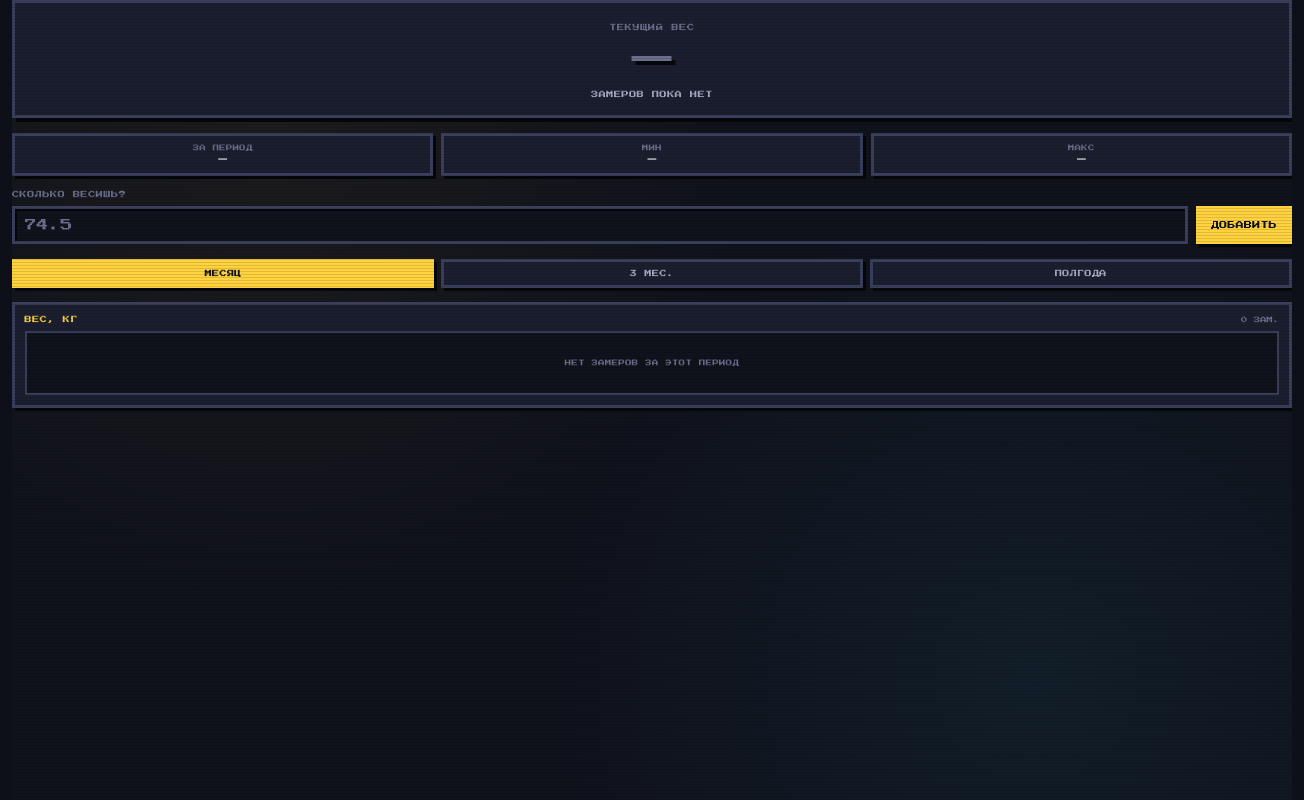
WeightPageComponent › validation › refuses a weight above the limit
In the field with class "entry-input": (600, 225) [12,206,1188,244], type "900"
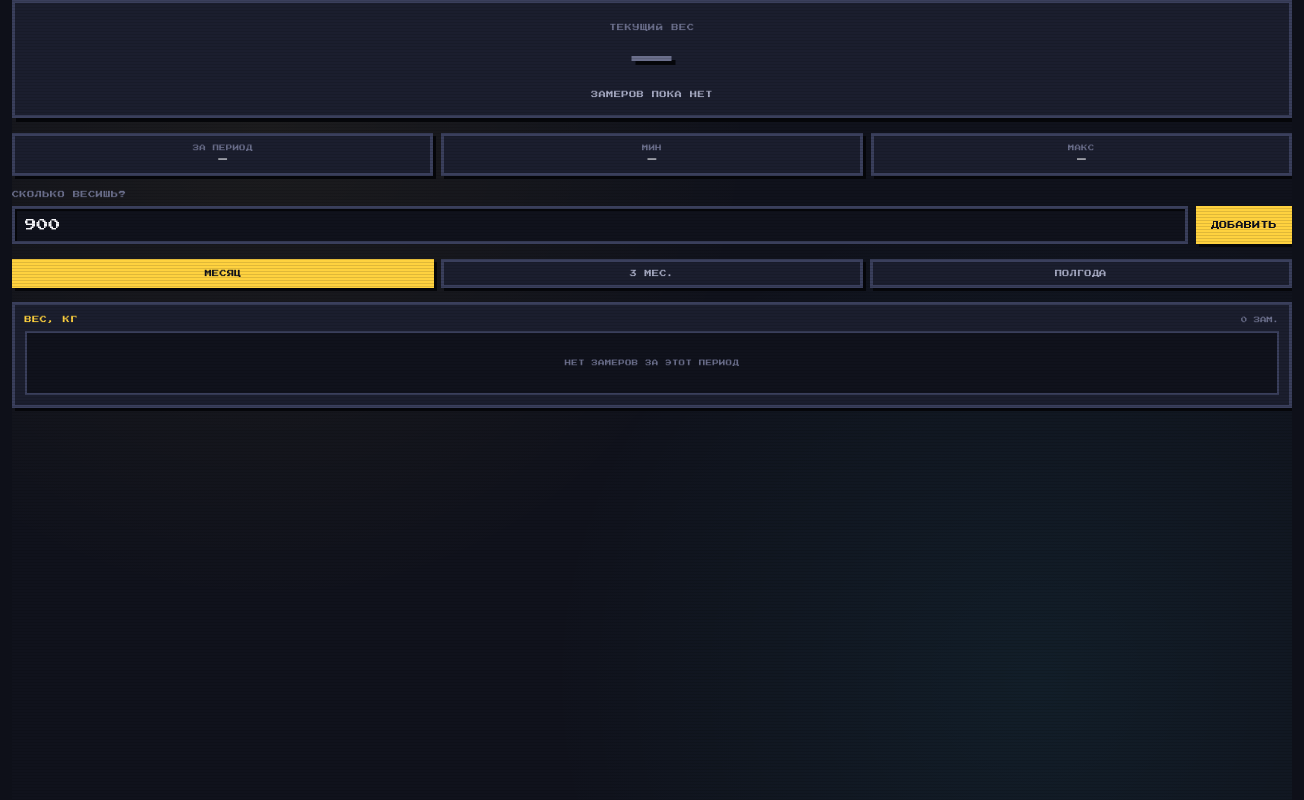
Submit the form with class "entry-form", box [12,191,1292,244]
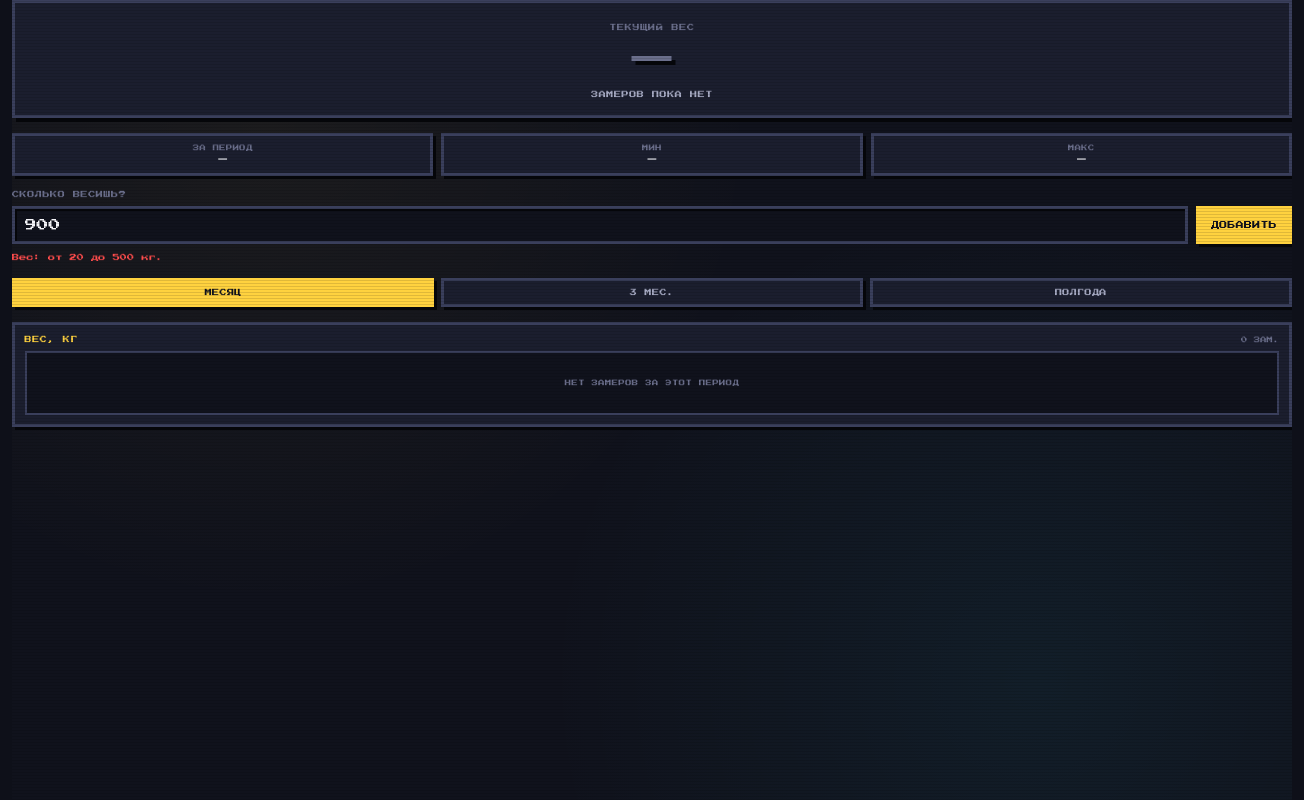
Expected: the message with class "entry-error" shows "от 20 до 500", [12,254,163,261]
